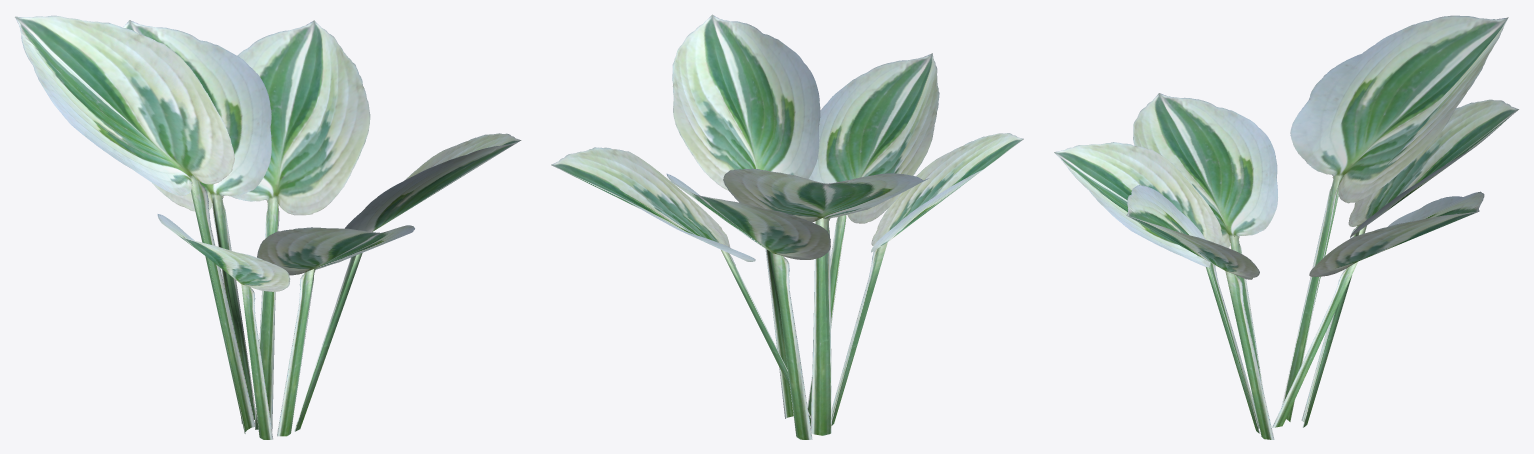
The model's file is plant_small_wg_01D.fbx.
3 views of the same model, side by side, from view 1: azimuth 30°, elevation 25°; view 2: azimuth 150°, elevation 25°; view 3: azimuth 270°, elevation 25° (orthographic). The views are drawn at different scales.
Visible parts, largest first — view 1: plant_small_wg_01D; view 2: plant_small_wg_01D; view 3: plant_small_wg_01D.
Boxes of the visible parts, left/top/right/bottom form: plant_small_wg_01D: left=15, top=15, right=521, bottom=439; plant_small_wg_01D: left=551, top=14, right=1023, bottom=439; plant_small_wg_01D: left=1054, top=15, right=1518, bottom=439.
Bounding box in the file's own units: 47.92 × 47.73 × 58.12.
